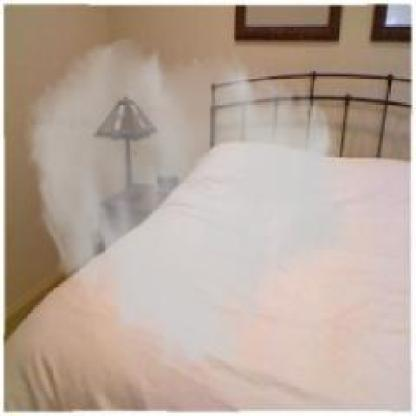Smoke: (23, 35, 357, 387)
